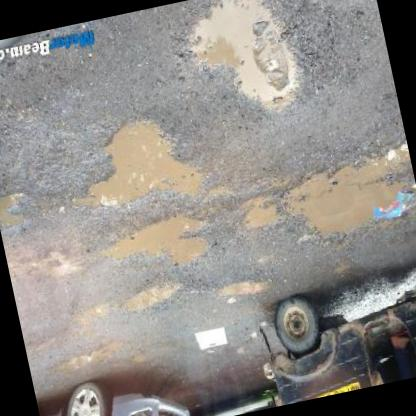pothole: (175, 0, 318, 137), (72, 103, 212, 226), (274, 139, 416, 257), (96, 210, 218, 286), (118, 280, 184, 321), (236, 192, 286, 238), (215, 274, 271, 306), (0, 184, 34, 234)
